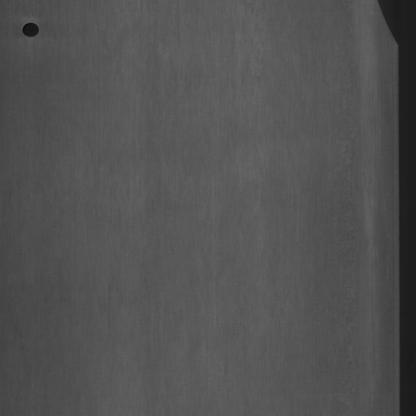crescent_gap: (373, 0, 400, 51)
punching_hole: (19, 16, 41, 42)
